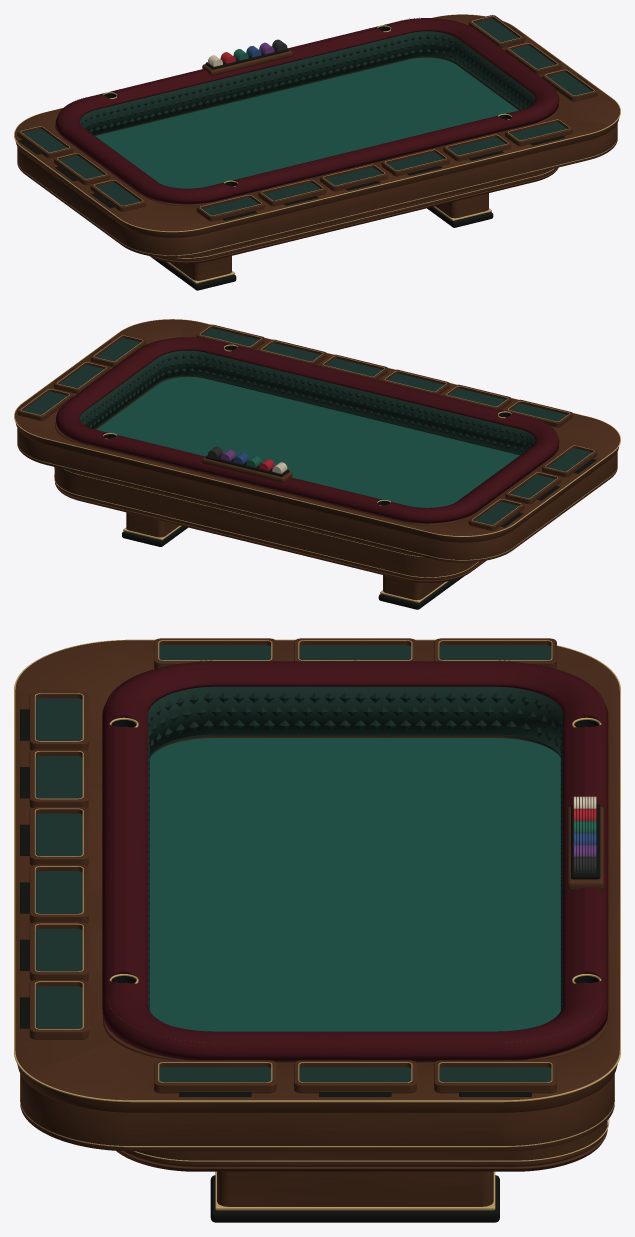
The model's file is table-player-rails.glb.
The picture shows the model from 3 angles, top to bottom: view 1: azimuth 30°, elevation 25°; view 2: azimuth 150°, elevation 25°; view 3: azimuth 270°, elevation 25°; orthographic projection. The views are drawn at different scales.
Visible parts, largest first — view 1: Recessed pine playing bed, Continuous sealed padded crown, Player shelf supporting apron, Continuous player chip shelf, Vertical rubber bounce wall, Molded rubber pyramids, Substantial walnut apron, Player shelf brass rim, Walnut lower plinth, Raised walnut wall chassis, Walnut trestle pedestal, Walnut trestle pedestal.001 (+30 smaller); view 2: Recessed pine playing bed, Continuous sealed padded crown, Player shelf supporting apron, Continuous player chip shelf, Substantial walnut apron, Vertical rubber bounce wall, Molded rubber pyramids, Walnut lower plinth, Player shelf brass rim, Raised walnut wall chassis, Walnut trestle pedestal, Walnut trestle pedestal.001 (+31 smaller); view 3: Recessed pine playing bed, Continuous sealed padded crown, Continuous player chip shelf, Player shelf supporting apron, Vertical rubber bounce wall, Walnut trestle pedestal.001, Substantial walnut apron, Molded rubber pyramids, Inset black pedestal foot.001, Player shelf brass rim, Walnut lower plinth, Seat 10 raised tray rim (+30 smaller).
Part boxes in pixels (x1,y1,x2,y2): Recessed pine playing bed: (95,57,518,188); Continuous sealed padded crown: (56,18,559,204); Player shelf supporting apron: (17,123,617,257); Continuous player chip shelf: (15,14,619,237); Vertical rubber bounce wall: (79,31,535,135); Molded rubber pyramids: (80,34,534,133); Substantial walnut apron: (159,168,556,261); Player shelf brass rim: (14,14,620,232); Walnut lower plinth: (149,167,558,263); Raised walnut wall chassis: (55,57,560,206); Walnut trestle pedestal: (170,256,231,280); Walnut trestle pedestal.001: (435,193,488,218); Recessed pine playing bed: (96,376,519,507); Continuous sealed padded crown: (56,337,559,523); Player shelf supporting apron: (17,428,617,562); Continuous player chip shelf: (15,319,619,542); Substantial walnut apron: (54,467,481,580); Vertical rubber bounce wall: (79,350,535,454); Molded rubber pyramids: (80,354,534,452); Walnut lower plinth: (55,482,486,582); Player shelf brass rim: (14,319,620,536); Raised walnut wall chassis: (55,376,560,525); Walnut trestle pedestal: (383,575,445,600); Walnut trestle pedestal.001: (126,512,179,537); Recessed pine playing bed: (149,738,560,1031); Continuous sealed padded crown: (102,661,608,1061); Continuous player chip shelf: (15,640,619,1112); Player shelf supporting apron: (20,1074,614,1151); Vertical rubber bounce wall: (148,686,562,755); Walnut trestle pedestal.001: (217,1171,493,1206); Substantial walnut apron: (123,1120,607,1166); Molded rubber pyramids: (148,692,562,1010); Inset black pedestal foot.001: (210,1175,499,1222); Player shelf brass rim: (14,639,620,1102); Walnut lower plinth: (116,1129,607,1171); Seat 10 raised tray rim: (434,1060,556,1090).
Size of the model in its own units: 14.41 by 3.75 by 8.01.
Materials: 14 (2 with a texture image).
